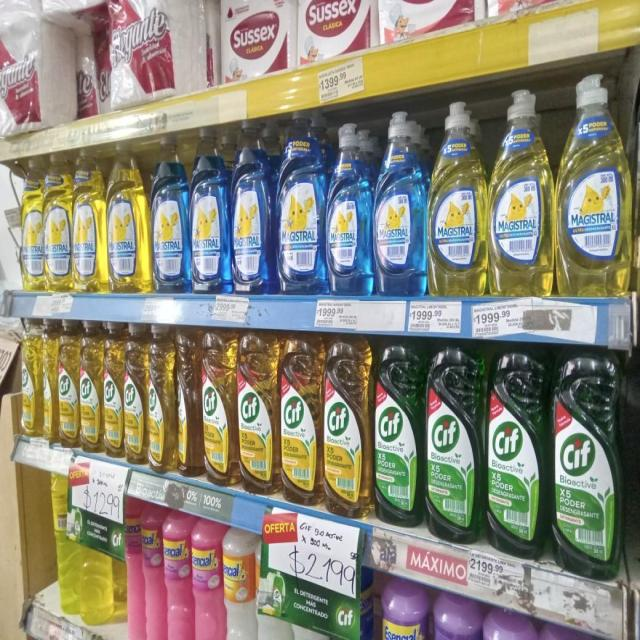cif_conc_bot_amarilla: (323, 336, 371, 517), (280, 334, 322, 504), (238, 331, 278, 495), (202, 328, 237, 486), (148, 324, 176, 474), (177, 328, 201, 478), (124, 324, 147, 464), (80, 320, 102, 452), (103, 323, 123, 458), (58, 320, 79, 448), (42, 319, 58, 443)
cif_conc_botella_verde: (552, 350, 622, 576), (486, 346, 547, 556), (426, 342, 482, 543), (374, 341, 424, 528)
magistral_con_amarillo: (558, 72, 631, 299), (489, 88, 553, 296), (429, 99, 486, 297), (107, 148, 148, 294), (73, 152, 105, 294), (44, 155, 72, 293), (19, 158, 43, 292)
magistral_con_azul: (374, 110, 427, 297), (326, 121, 372, 296), (150, 136, 190, 294)
